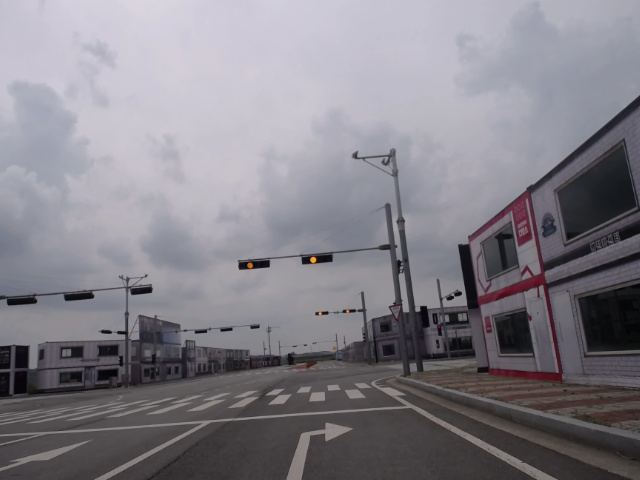orange_4: (298, 253, 335, 266), (236, 260, 273, 269), (340, 308, 361, 314), (314, 310, 331, 317)
